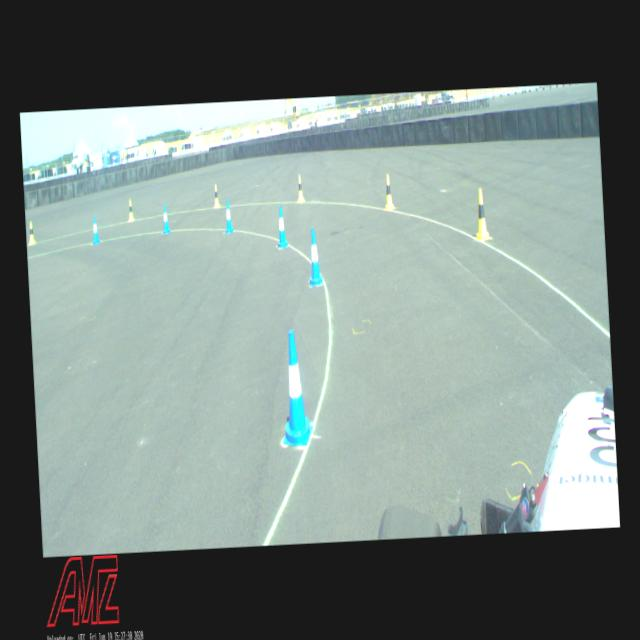blue_cone: (278, 330, 314, 448), (306, 227, 323, 287), (275, 205, 289, 248), (222, 199, 234, 233), (162, 204, 170, 233), (92, 216, 100, 244)
yellow_cone: (473, 188, 490, 240), (383, 174, 396, 210), (296, 175, 304, 202), (28, 222, 36, 244), (213, 184, 220, 208), (128, 198, 135, 222)
